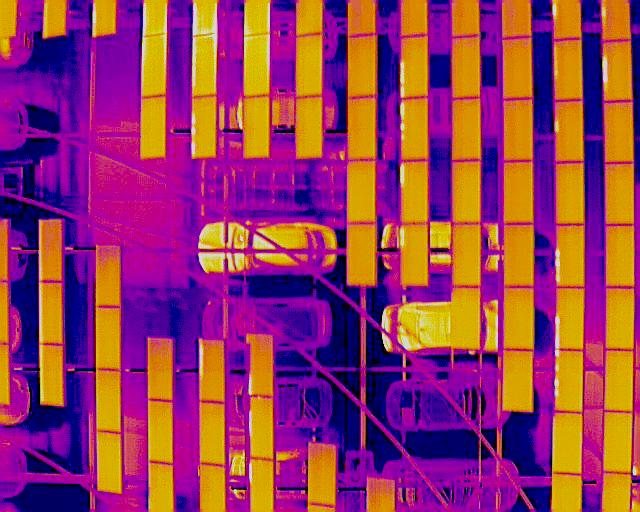Cell-Multi: (555, 350, 585, 413), (401, 160, 429, 225), (400, 97, 428, 160), (191, 92, 217, 157)
No-Anomaly: (347, 96, 377, 162), (295, 31, 324, 99), (502, 36, 533, 99), (605, 160, 635, 225), (348, 158, 377, 225), (605, 348, 635, 412), (504, 99, 534, 162), (504, 160, 534, 223), (605, 224, 635, 287), (504, 287, 534, 350), (503, 349, 533, 412), (554, 412, 584, 475), (452, 223, 481, 288), (296, 92, 323, 161), (505, 224, 535, 286), (452, 160, 481, 224), (606, 284, 634, 350), (604, 101, 633, 164), (605, 411, 634, 474), (348, 33, 376, 97), (243, 94, 270, 160), (452, 288, 481, 349), (555, 162, 583, 225), (453, 96, 480, 161), (309, 442, 336, 506), (453, 36, 480, 100), (554, 40, 582, 101), (199, 400, 226, 463), (349, 223, 375, 287), (96, 369, 122, 433), (148, 338, 174, 401), (140, 94, 165, 159), (149, 399, 174, 464), (98, 429, 123, 493), (39, 282, 64, 345), (40, 343, 65, 406), (97, 306, 121, 370), (96, 245, 121, 306), (39, 220, 63, 281)
Unclassified: (243, 31, 271, 98), (400, 223, 429, 286), (556, 287, 585, 350), (400, 35, 428, 100), (556, 222, 584, 287), (555, 98, 583, 163), (604, 40, 632, 103), (199, 338, 226, 402), (191, 31, 216, 99), (248, 334, 274, 397), (249, 398, 275, 460), (143, 33, 168, 96), (250, 460, 275, 511)
